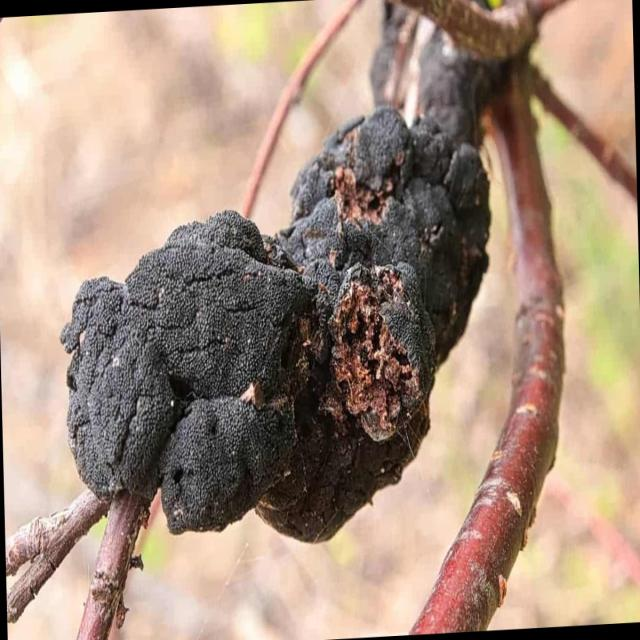Black_knot: (59, 101, 492, 544)
